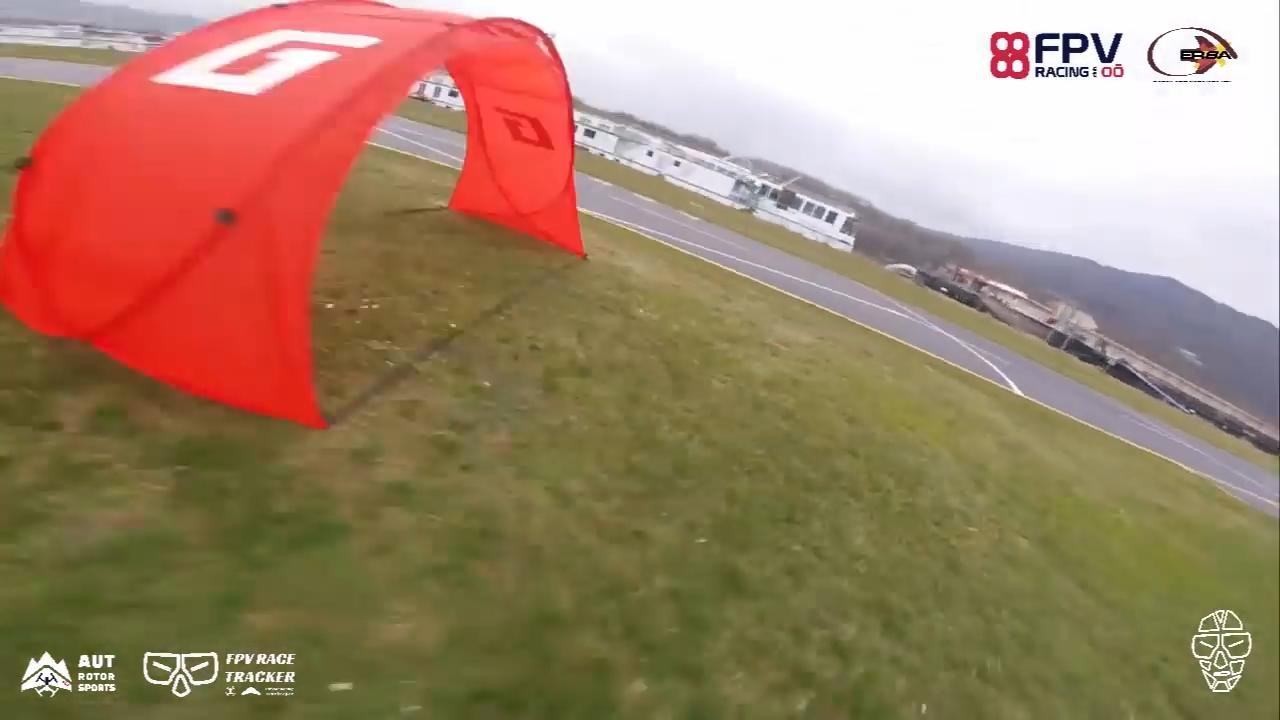gate: (1, 8, 587, 429)
